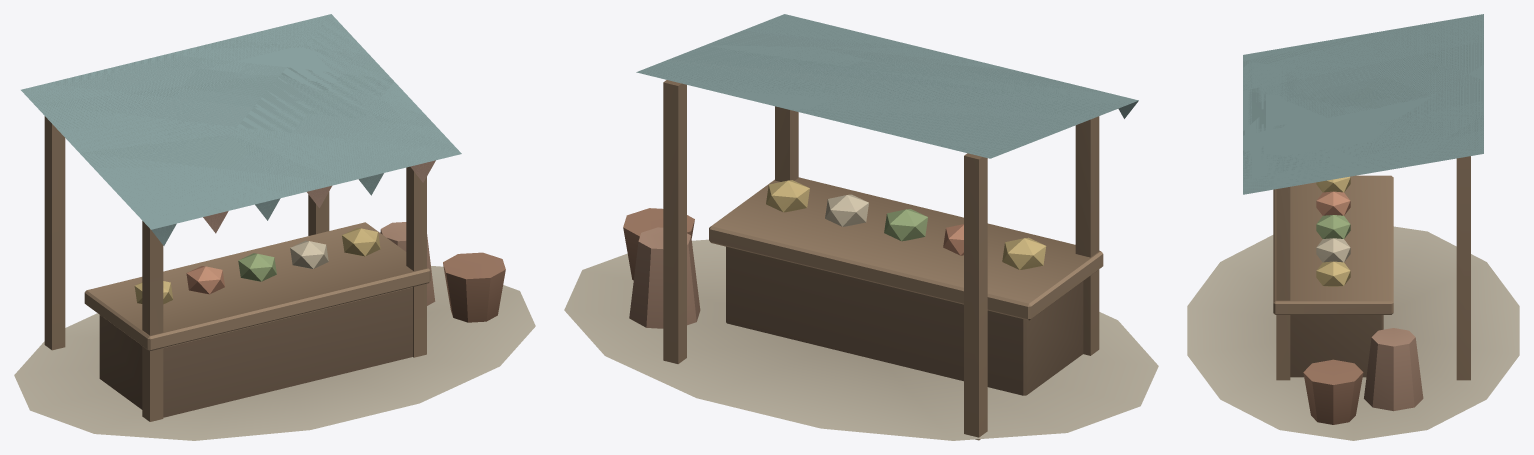
Rendered from stall_1.glb.
The picture shows the model from 3 angles, left to right: view 1: azimuth 30°, elevation 25°; view 2: azimuth 150°, elevation 25°; view 3: azimuth 270°, elevation 25°; orthographic projection. The views are drawn at different scales.
Visible parts, largest first — view 1: stall_1; view 2: stall_1; view 3: stall_1.
Boxes of the visible parts, x1,y1,x2,y2 form: stall_1: (14, 14, 535, 440); stall_1: (564, 14, 1158, 440); stall_1: (1187, 14, 1519, 440).
Bounding box in the file's own units: 5.2 × 2.6 × 3.31.
